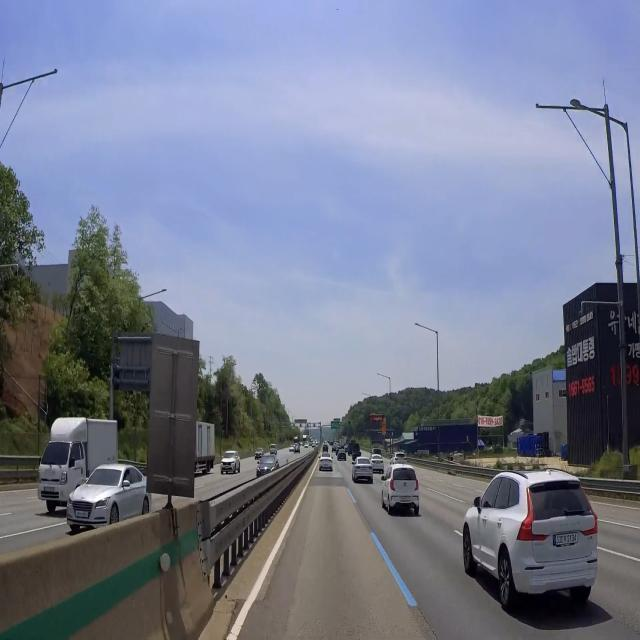car: (553, 527, 579, 549), (72, 505, 91, 520), (42, 483, 58, 496), (399, 494, 411, 505), (359, 466, 369, 472), (374, 461, 381, 466), (323, 463, 329, 468), (223, 466, 230, 470), (340, 455, 344, 460)
